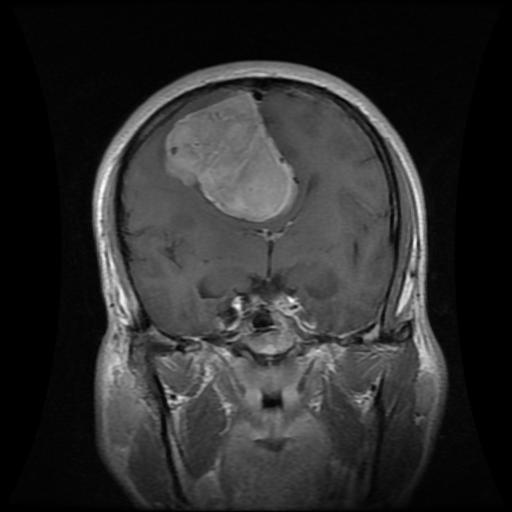Menigiomia_tumour: (165, 91, 296, 223)
